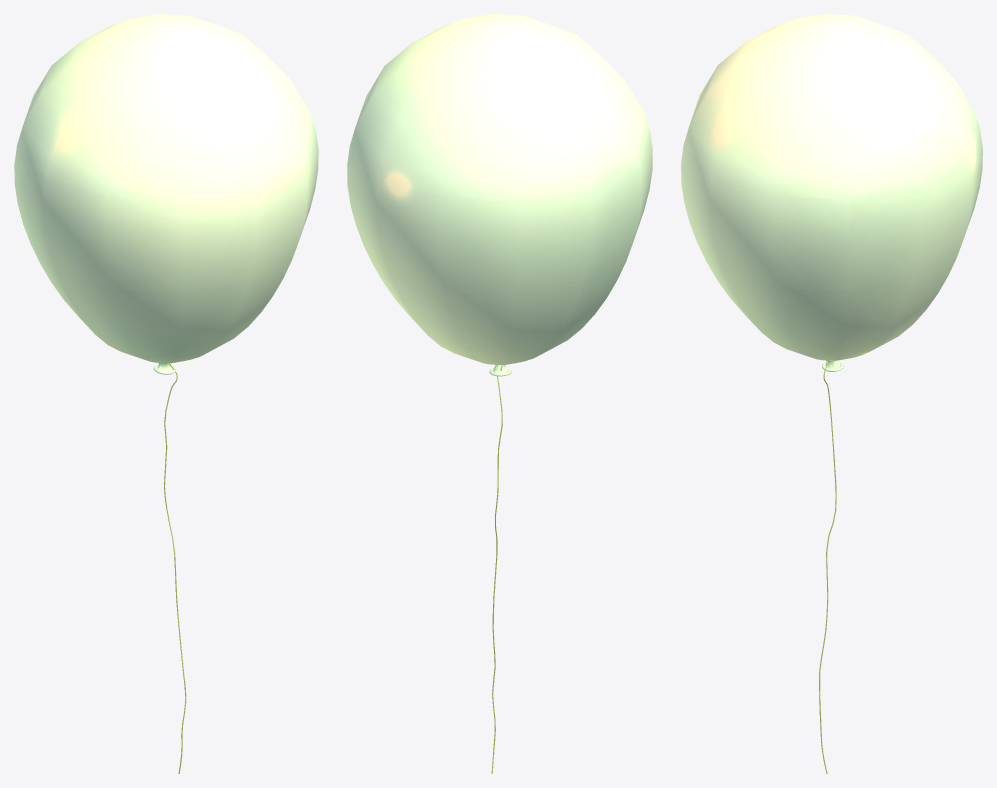
Rendered from balloon1.glb.
The picture shows the model from 3 angles, left to right: view 1: azimuth 30°, elevation 25°; view 2: azimuth 150°, elevation 25°; view 3: azimuth 270°, elevation 25°; orthographic projection.
Visible parts, largest first — view 1: balloon01; view 2: balloon01; view 3: balloon01.
Part boxes in pixels (<box>): balloon01: <box>14,14,318,773</box>; balloon01: <box>347,14,652,773</box>; balloon01: <box>681,14,982,773</box>.
Size of what is drawn, in the model's own units: 6.08 by 16.49 by 6.08.
Materials: 2 (2 with a texture image).
